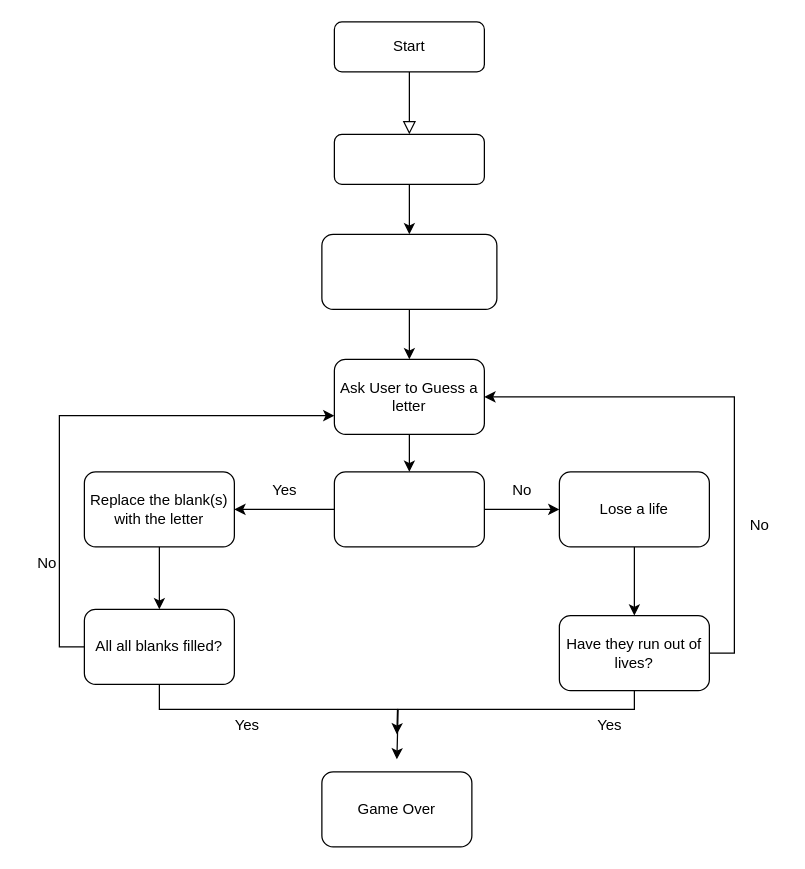
Image size: 805x869. Some labels were removed from this diagram. The centre of each missing label's shape, as x and y in pixels:
Generate as many blanks as letters in the word: point 409,271
Generate Random Word: point 408,158
Is the guessed letter in the word: point 408,509
